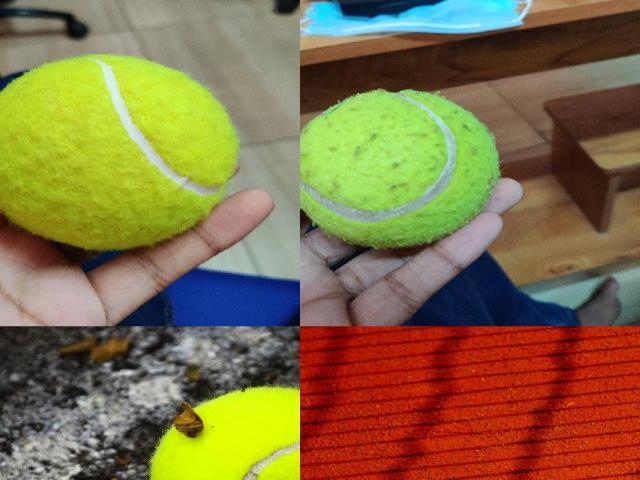tennis-ball: (0, 54, 236, 248), (300, 90, 502, 250), (147, 386, 299, 480)
